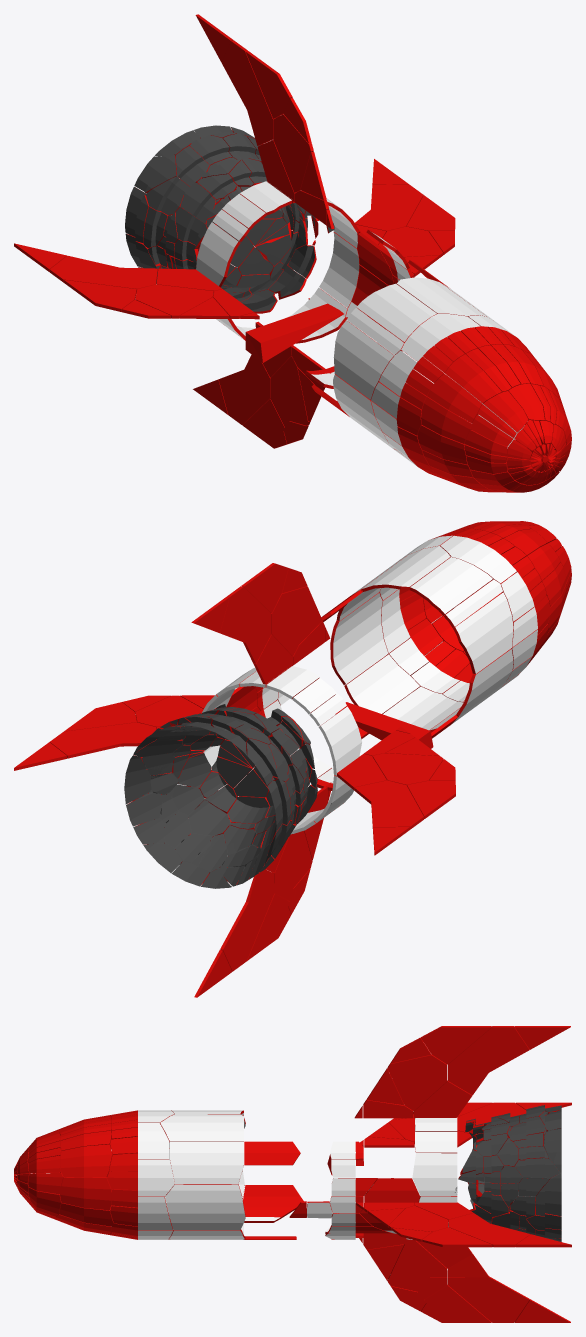
Rendered from Rocket1Broken.fbx.
The picture shows the model from 3 angles, top to bottom: view 1: azimuth 30°, elevation 25°; view 2: azimuth 150°, elevation 25°; view 3: azimuth 270°, elevation 25°; orthographic projection. The views are drawn at different scales.
Parts seen in each view (by area): view 1: Cylinder.004_cell.129, Cylinder.004_cell.133, Cylinder.004_cell.096, Cylinder.006_cell.010, Cylinder.003_cell.006, Cylinder.005_cell.006, Cylinder.006_cell.002, Cylinder.004_cell.004, Cylinder.006_cell.011, Cylinder.004_cell.013, Cylinder.004_cell.192, Cylinder.003_cell.007 (+52 smaller); view 2: Cylinder.004_cell.209, Cylinder.004_cell.129, Cylinder.004_cell.096, Cylinder.004_cell.141, Cylinder.006_cell.010, Cylinder.005_cell.006, Cylinder.003_cell.006, Cylinder.006_cell.002, Cylinder.004_cell.125, Cylinder.004_cell.192, Cylinder.006_cell.011, Cylinder.004_cell.013 (+47 smaller); view 3: Cylinder.004_cell.209, Cylinder.004_cell.106, Cylinder.006_cell.010, Cylinder.006_cell.002, Cylinder.004_cell.192, Cylinder.006_cell.011, Cylinder.004_cell.194, Cylinder.004_cell.036, Cylinder.007_cell.006, Cylinder.001_cell.032, Cylinder.006_cell.008, Cylinder.001_cell.036 (+62 smaller).
Boxes of the visible parts, x1=… form: Cylinder.004_cell.129: x1=333, y1=320, x2=394, y2=399; Cylinder.004_cell.133: x1=245, y1=303, x2=343, y2=362; Cylinder.004_cell.096: x1=356, y1=283, x2=436, y2=342; Cylinder.006_cell.010: x1=221, y1=40, x2=275, y2=145; Cylinder.003_cell.006: x1=49, y1=255, x2=157, y2=291; Cylinder.005_cell.006: x1=355, y1=184, x2=423, y2=231; Cylinder.006_cell.002: x1=218, y1=369, x2=270, y2=425; Cylinder.004_cell.004: x1=319, y1=232, x2=359, y2=307; Cylinder.006_cell.011: x1=273, y1=114, x2=313, y2=192; Cylinder.004_cell.013: x1=196, y1=222, x2=240, y2=287; Cylinder.004_cell.192: x1=396, y1=277, x2=486, y2=316; Cylinder.003_cell.007: x1=135, y1=284, x2=213, y2=318; Cylinder.004_cell.209: x1=330, y1=592, x2=387, y2=684; Cylinder.004_cell.129: x1=453, y1=592, x2=513, y2=673; Cylinder.004_cell.096: x1=410, y1=557, x2=492, y2=615; Cylinder.004_cell.141: x1=344, y1=654, x2=419, y2=714; Cylinder.006_cell.010: x1=218, y1=586, x2=271, y2=663; Cylinder.005_cell.006: x1=50, y1=722, x2=156, y2=758; Cylinder.003_cell.006: x1=354, y1=780, x2=423, y2=829; Cylinder.006_cell.002: x1=220, y1=884, x2=274, y2=971; Cylinder.004_cell.125: x1=383, y1=686, x2=463, y2=730; Cylinder.004_cell.192: x1=361, y1=546, x2=450, y2=591; Cylinder.006_cell.011: x1=271, y1=586, x2=309, y2=656; Cylinder.004_cell.013: x1=318, y1=706, x2=361, y2=775; Cylinder.004_cell.209: x1=165, y1=1184, x2=245, y2=1230; Cylinder.004_cell.106: x1=170, y1=1141, x2=243, y2=1183; Cylinder.006_cell.010: x1=448, y1=1026, x2=529, y2=1095; Cylinder.006_cell.002: x1=447, y1=1276, x2=529, y2=1322; Cylinder.004_cell.192: x1=160, y1=1114, x2=243, y2=1142; Cylinder.006_cell.011: x1=387, y1=1054, x2=447, y2=1110; Cylinder.004_cell.194: x1=243, y1=1185, x2=303, y2=1222; Cylinder.004_cell.036: x1=412, y1=1153, x2=457, y2=1196; Cylinder.007_cell.006: x1=387, y1=1240, x2=447, y2=1291; Cylinder.001_cell.032: x1=60, y1=1144, x2=112, y2=1177; Cylinder.006_cell.008: x1=421, y1=1026, x2=491, y2=1064; Cylinder.001_cell.036: x1=60, y1=1177, x2=111, y2=1210.
Bounding box in the file's own units: 1.24 × 1.23 × 2.1.
